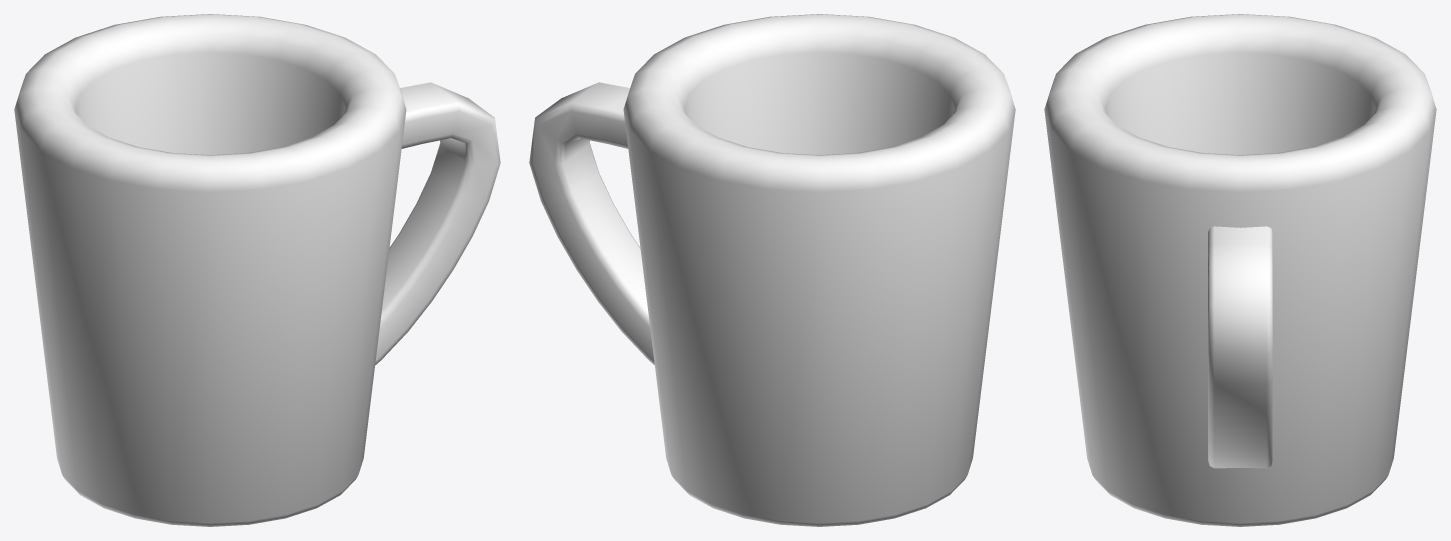
The model's file is Mug4_white.fbx.
3 renders of one model, left to right at view 1: azimuth 30°, elevation 25°; view 2: azimuth 150°, elevation 25°; view 3: azimuth 270°, elevation 25°, orthographic.
Parts seen in each view (by area): view 1: Mug4_White; view 2: Mug4_White; view 3: Mug4_White.
Part boxes in pixels (x1,y1,x2,y2): Mug4_White: (14, 14, 500, 526); Mug4_White: (529, 14, 1015, 526); Mug4_White: (1044, 14, 1436, 526).
Bounding box in the file's own units: 16.62 × 13.4 × 12.64.
